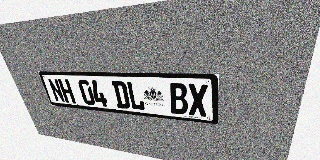0: (77, 79, 96, 106)
4: (89, 80, 108, 107)
B: (168, 83, 188, 115)
D: (111, 81, 131, 109)
H: (57, 79, 76, 104)
L: (126, 81, 146, 111)
N: (47, 78, 66, 102)
X: (188, 83, 208, 117)
